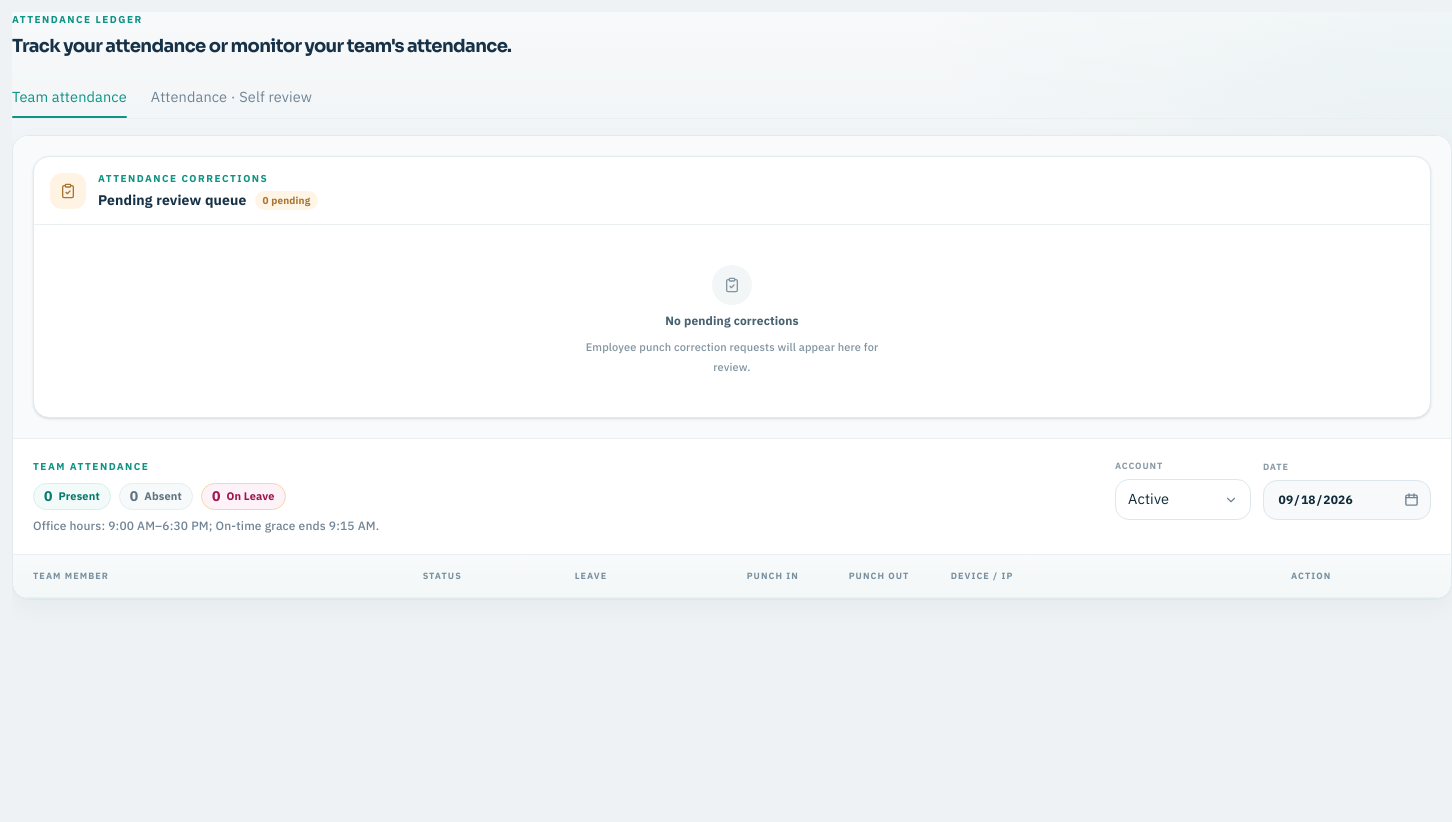
Test: AttendanceModule role behavior › MANAGER role › switches back to Team attendance from Self review
This screenshot has width=1452, height=822.
Note: Switch to Self Review
Click the tab "Attendance · Self review" at [232, 97], box top-left (151, 76), bottom-right (312, 118)
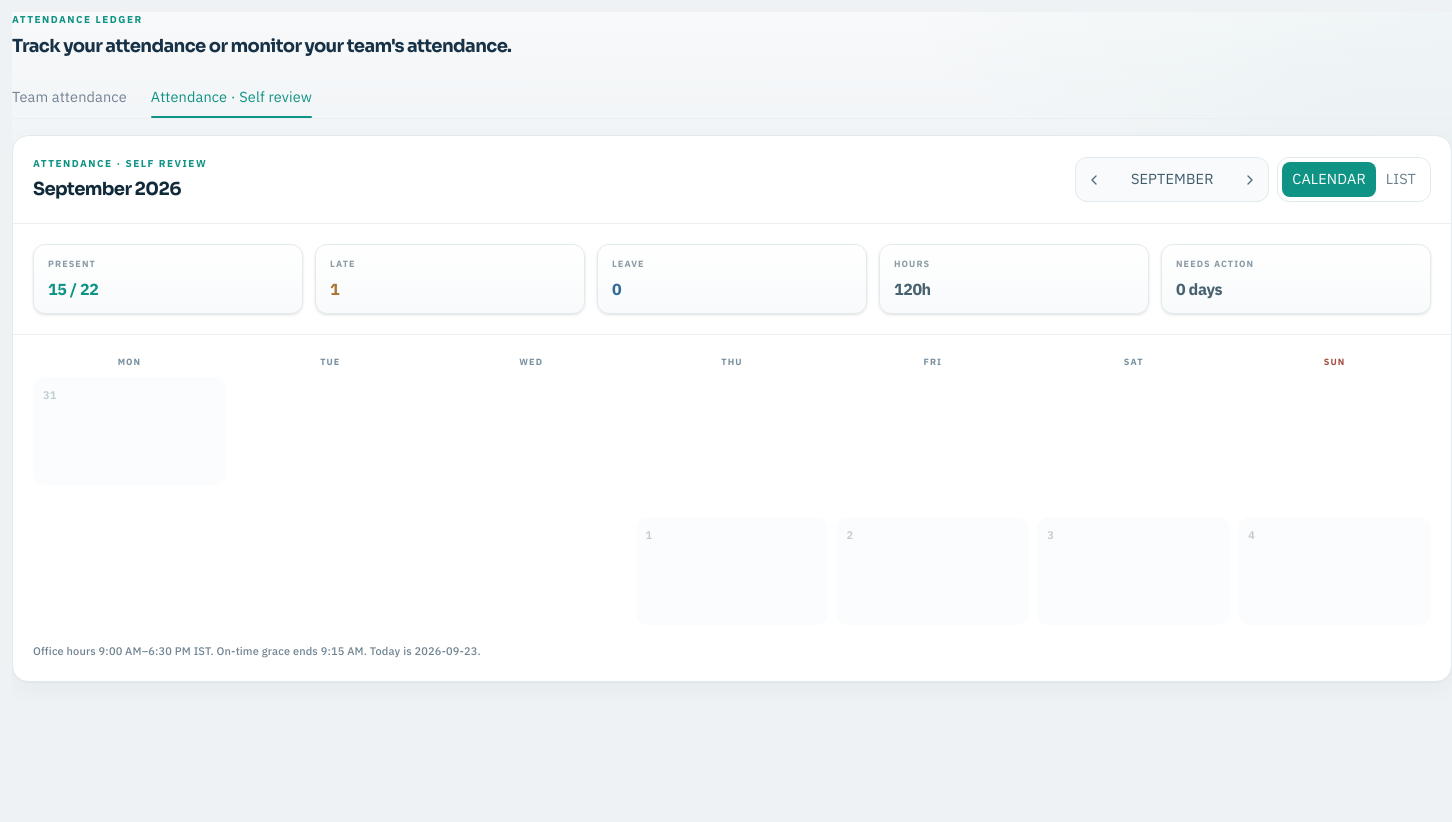
Result: the heading "Pending review queue" is gone
Note: Switch back to Team Attendance
Click the tab "Team attendance" at [69, 97], box top-left (12, 76), bottom-right (127, 118)
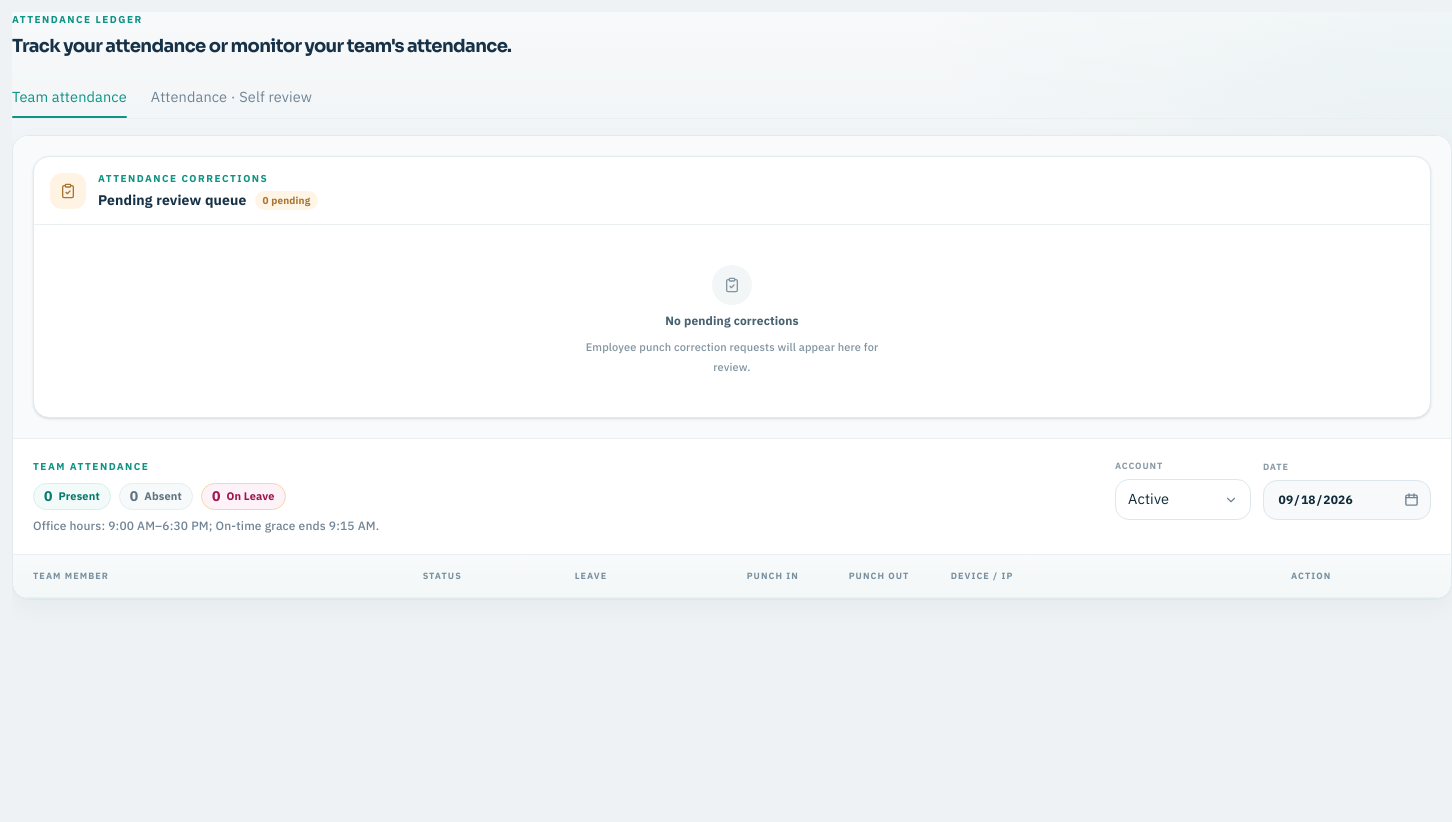
Result: the heading "Pending review queue" is shown at top-left (98, 190), bottom-right (247, 210)
